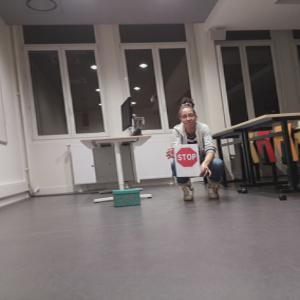stop: (176, 147, 198, 168)
